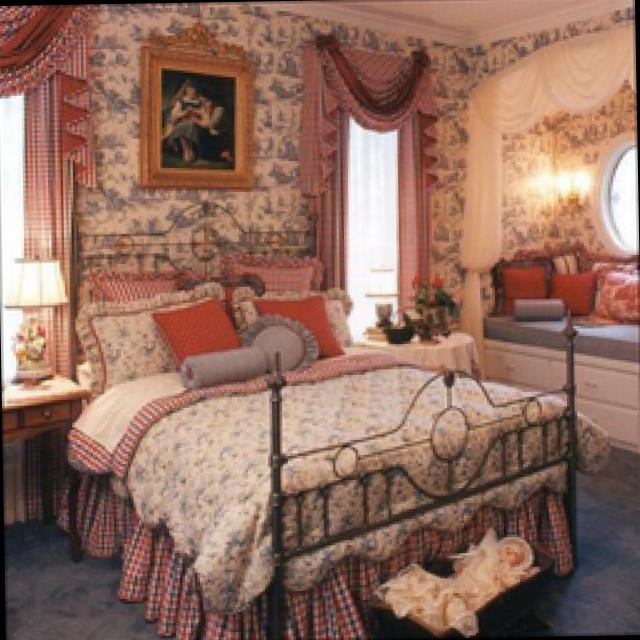2001: (354, 122, 402, 332), (0, 98, 26, 368)
bed -occluded-: (64, 200, 617, 635)
cabinet door: (486, 340, 640, 449)
ceiling beam: (255, 0, 634, 48), (343, 0, 599, 32)
curtain crop: (463, 19, 635, 367), (300, 27, 440, 304), (0, 4, 98, 282)
cushion occluded: (487, 312, 640, 354)
doll: (375, 525, 539, 632)
lamp crop: (7, 254, 77, 385), (560, 165, 593, 218)
mirror crop: (597, 132, 639, 257)
night stand: (8, 372, 89, 562)
painting crop: (140, 22, 260, 181)
pillow occluded: (82, 282, 238, 401), (155, 297, 245, 362), (257, 292, 348, 352), (240, 311, 320, 371), (181, 344, 273, 385), (94, 267, 199, 299), (229, 252, 321, 286), (497, 256, 555, 309), (585, 268, 640, 323), (557, 270, 600, 313), (517, 296, 567, 319)
plant -x: (412, 271, 462, 335)
small table part: (363, 318, 483, 372)
